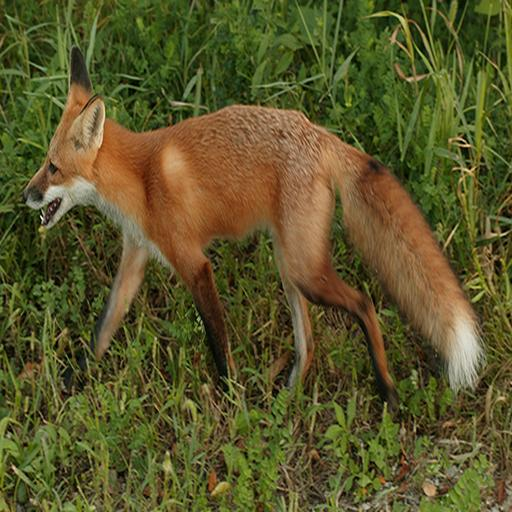Fox: (13, 42, 492, 416)
